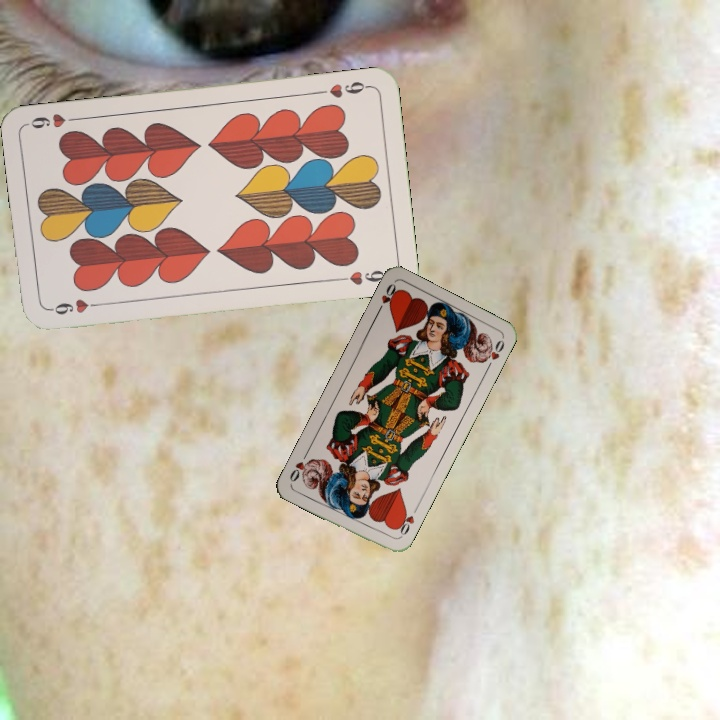H9: (313, 77, 372, 100), (45, 295, 104, 317)
HO: (392, 503, 420, 541), (373, 279, 401, 317)
